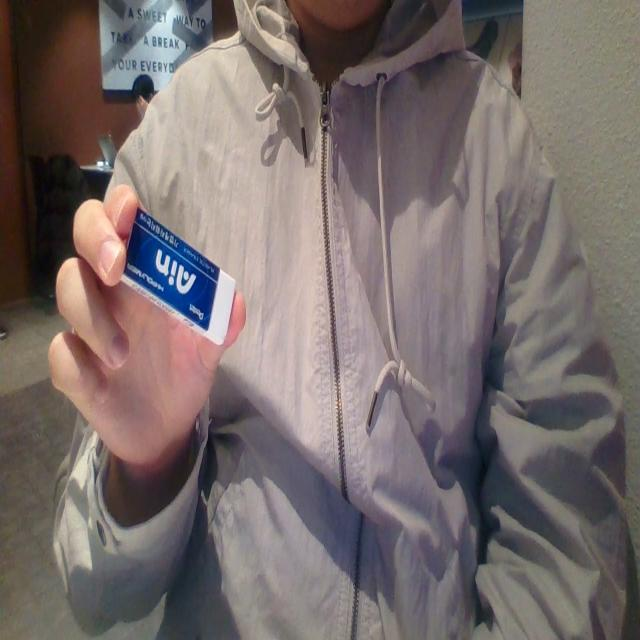eraser: (123, 202, 236, 344)
grab_eraser: (32, 172, 237, 495)
